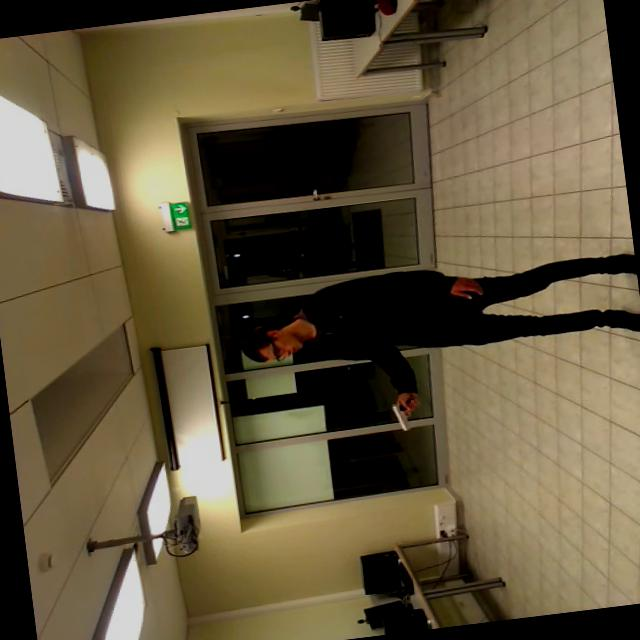handgun: (380, 386, 432, 436)
